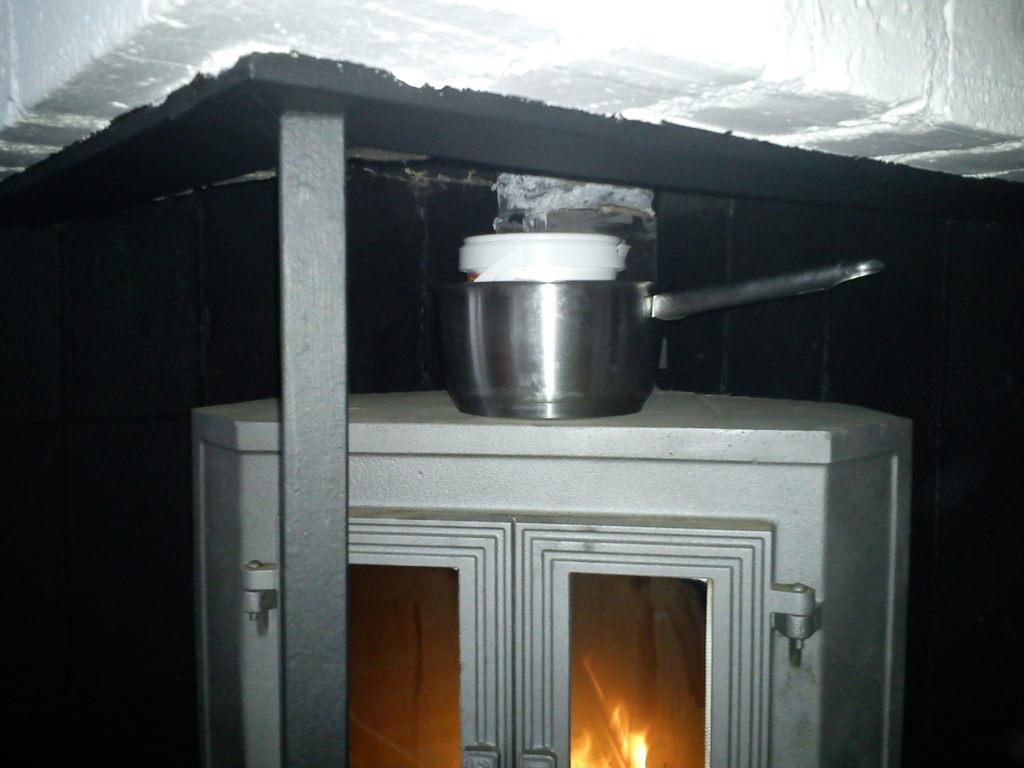Fire: (569, 669, 665, 768)
